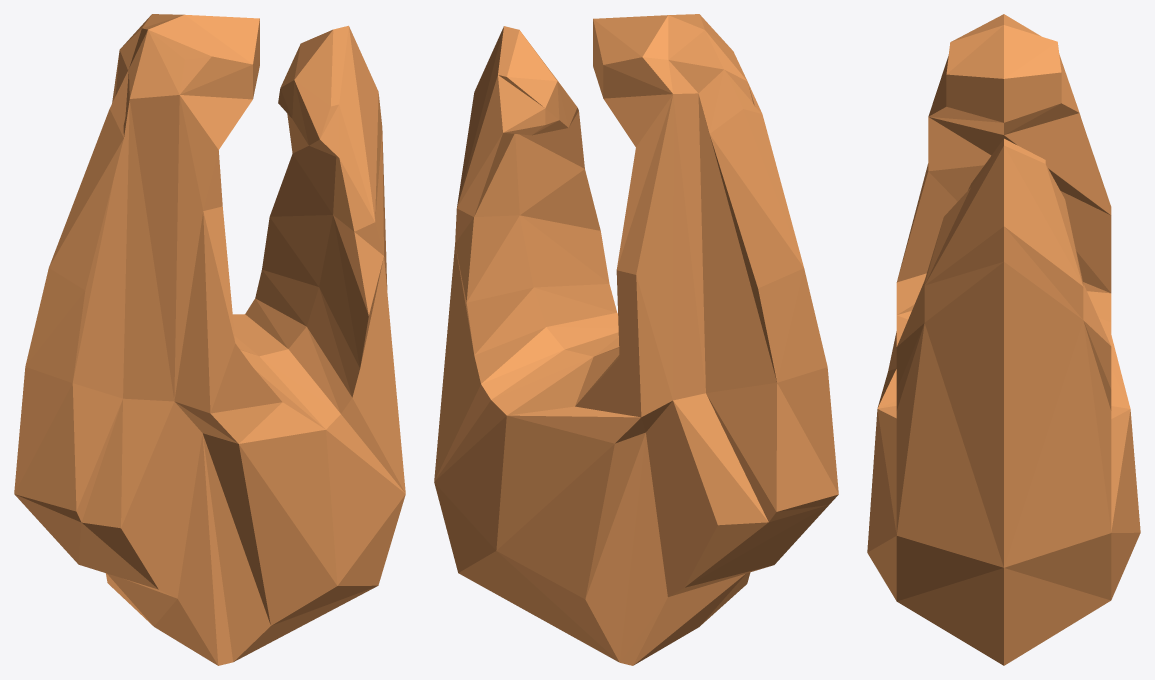
Rendered from Rock_Large_Canyon_Eroded_02.FBX.
3 renders of one model, left to right at view 1: azimuth 30°, elevation 25°; view 2: azimuth 150°, elevation 25°; view 3: azimuth 270°, elevation 25°, orthographic. The views are drawn at different scales.
Visible parts, largest first — view 1: Rock_Large_Canyon_Eroded_02; view 2: Rock_Large_Canyon_Eroded_02; view 3: Rock_Large_Canyon_Eroded_02.
Part boxes in pixels (left/top/right/bottom): Rock_Large_Canyon_Eroded_02: left=14, top=14, right=405, bottom=665; Rock_Large_Canyon_Eroded_02: left=434, top=14, right=838, bottom=665; Rock_Large_Canyon_Eroded_02: left=867, top=14, right=1140, bottom=665.
Size of the model in its own units: 7478 by 11423 by 5095.
